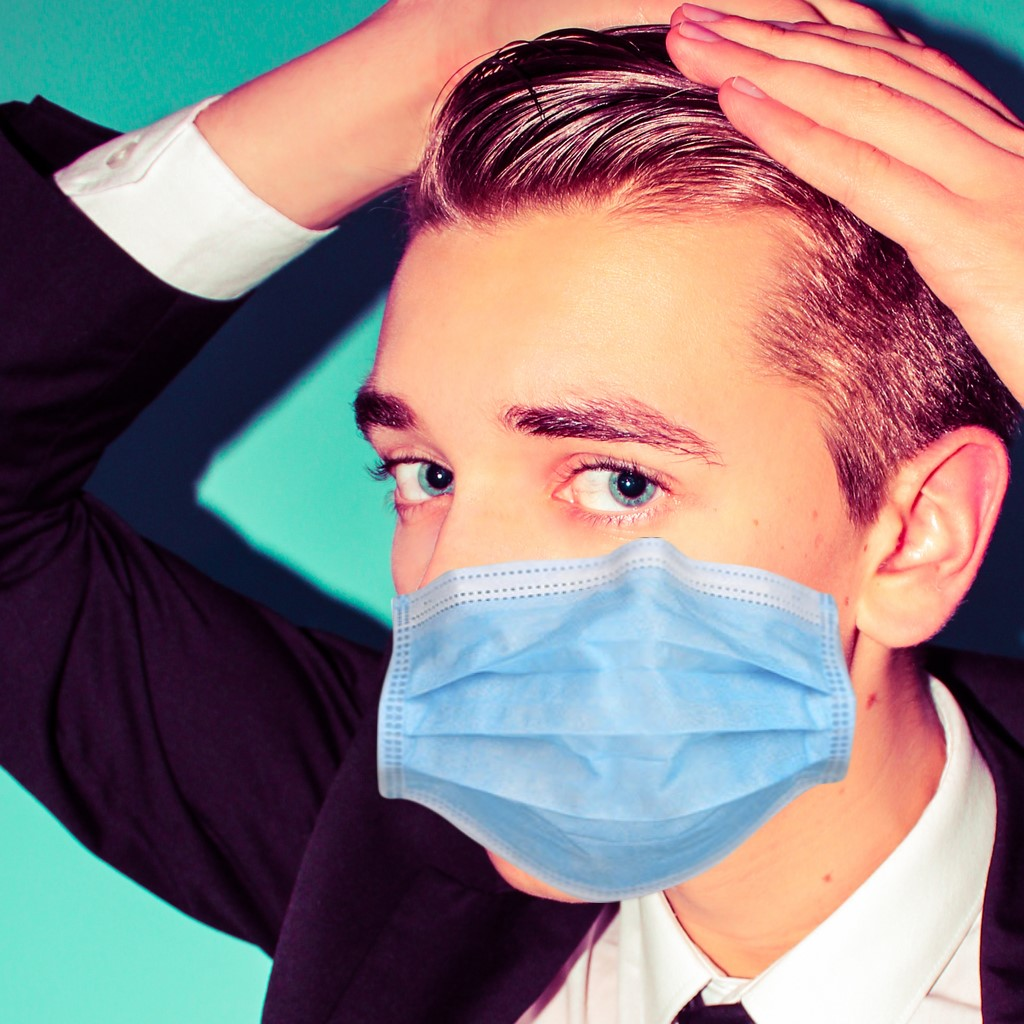con_mascara: (331, 98, 942, 896)
